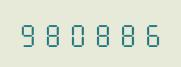eight: (41, 20, 64, 47), (90, 20, 113, 47), (114, 20, 137, 47)
nine: (17, 20, 40, 47)
six: (138, 20, 161, 47)
zero: (66, 20, 89, 47)
